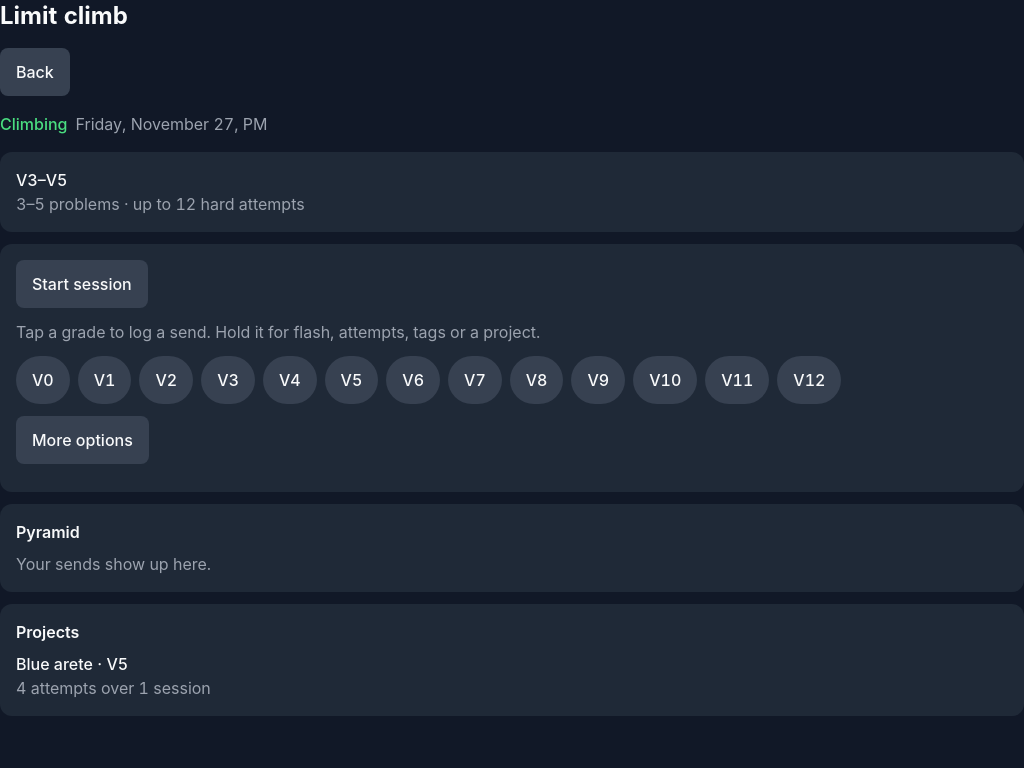
Test case: ClimbPlayer › carries project attempts over from earlier sessions and marks the send
Check: the text "4 attempts over 1 session" is shown, box [16,678,211,698]
Step 1. Click the button "More options" → (82, 440), box [16,416,149,464]
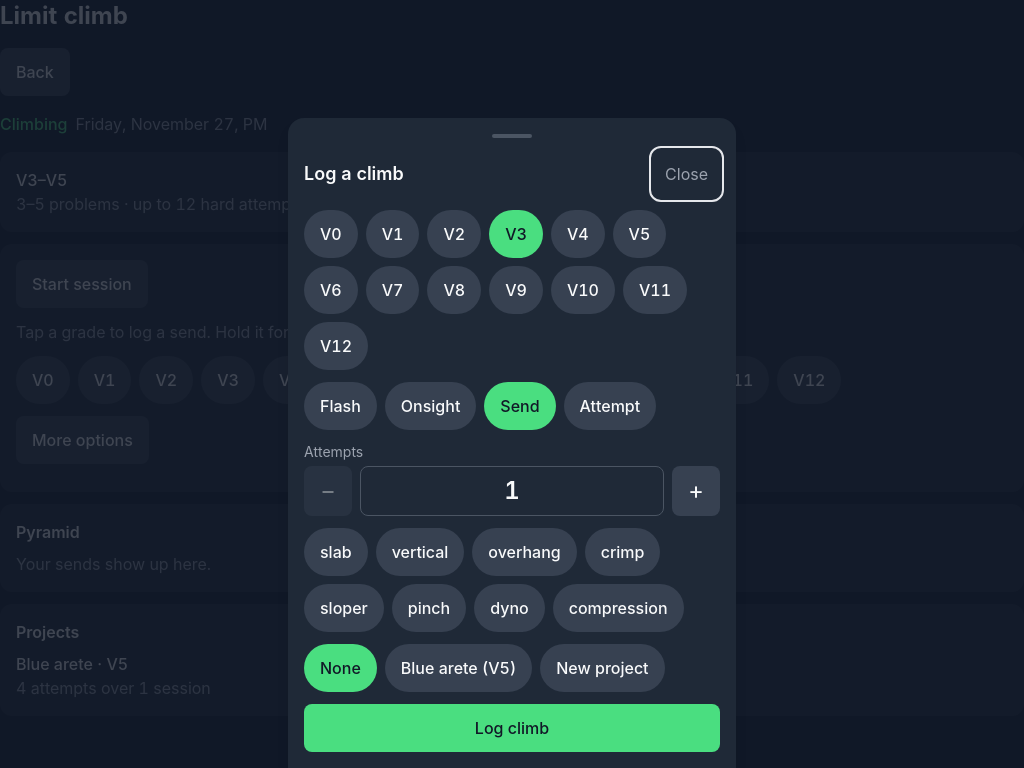
Step 2. Click the radio button labelled "V5" → (639, 234), box [613,210,666,258]
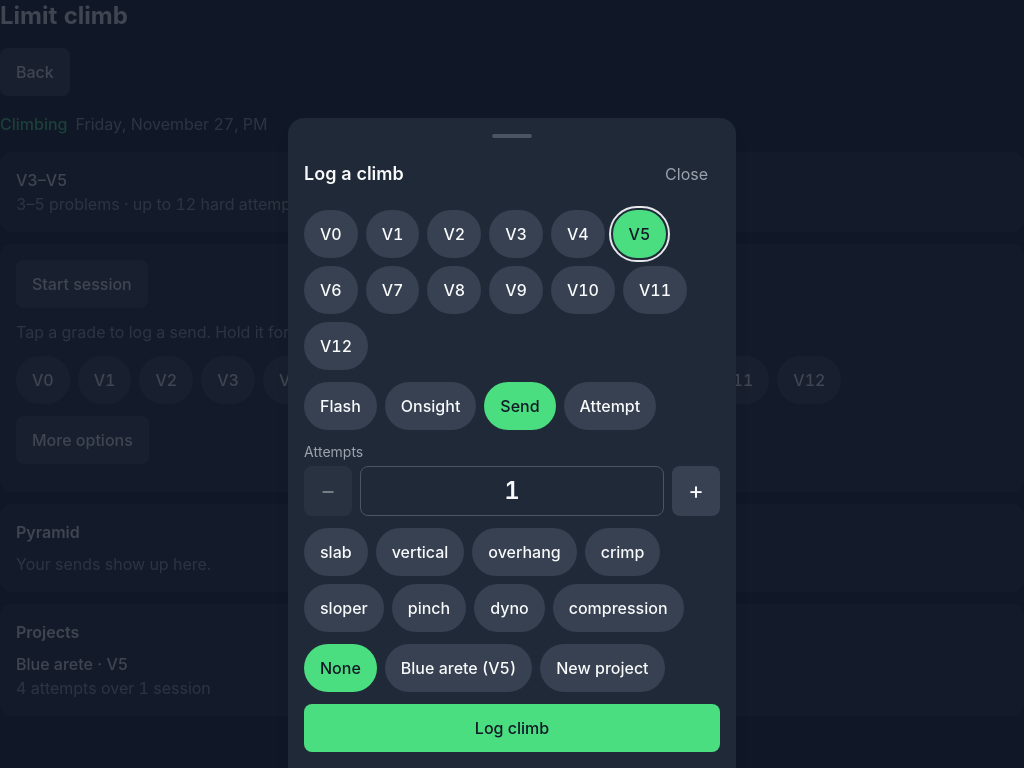
Step 3. Click the radio button labelled "Blue arete (V5)" → (458, 668), box [385,644,532,692]
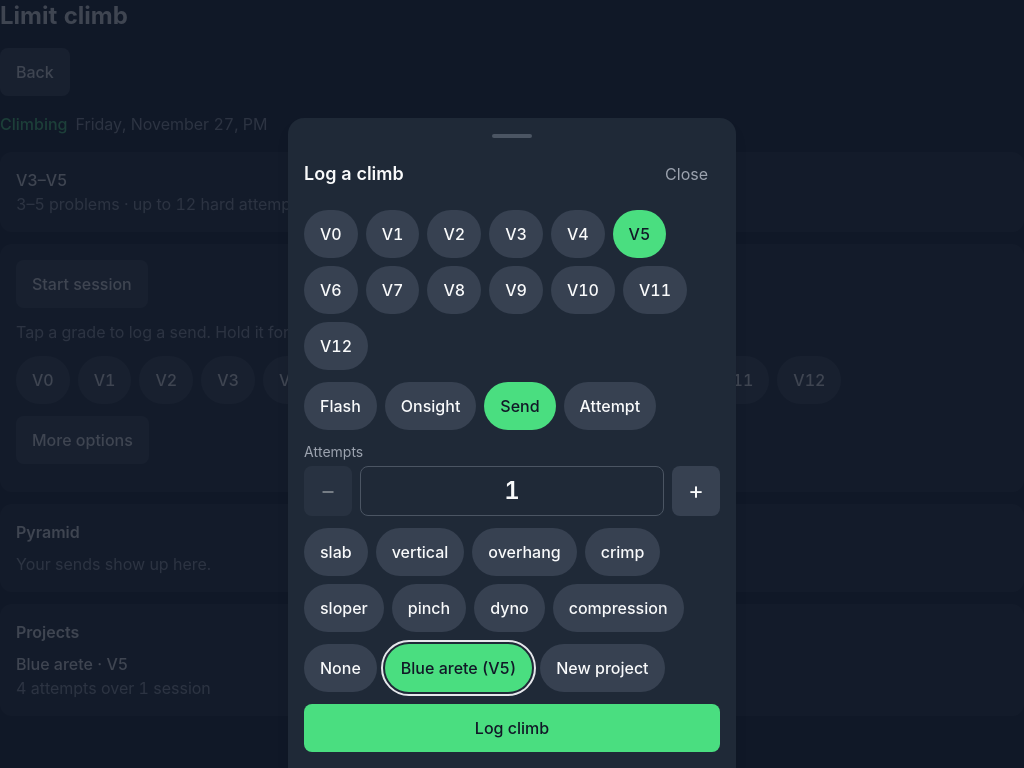
Step 4. Click the button "Log climb" → (512, 728), box [304,704,720,752]
(page scrolled)
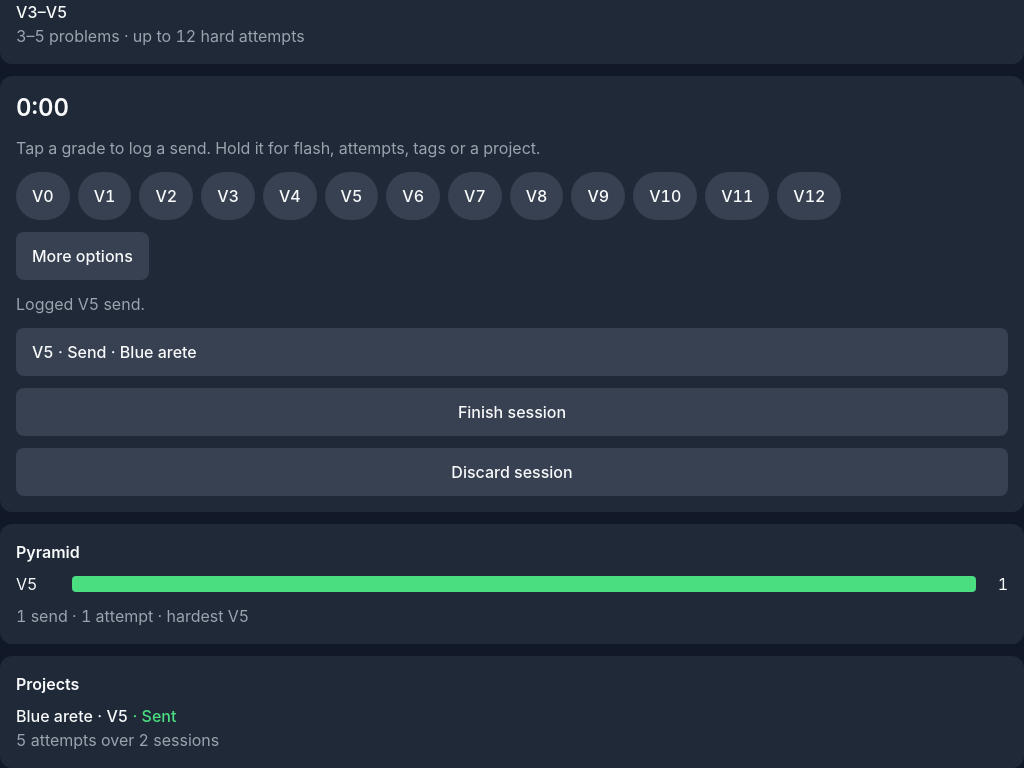
Check: the text "5 attempts over 2 sessions" is shown, box [16,730,219,750]
Check: the text "· Sent" is shown, box [128,706,176,726]
